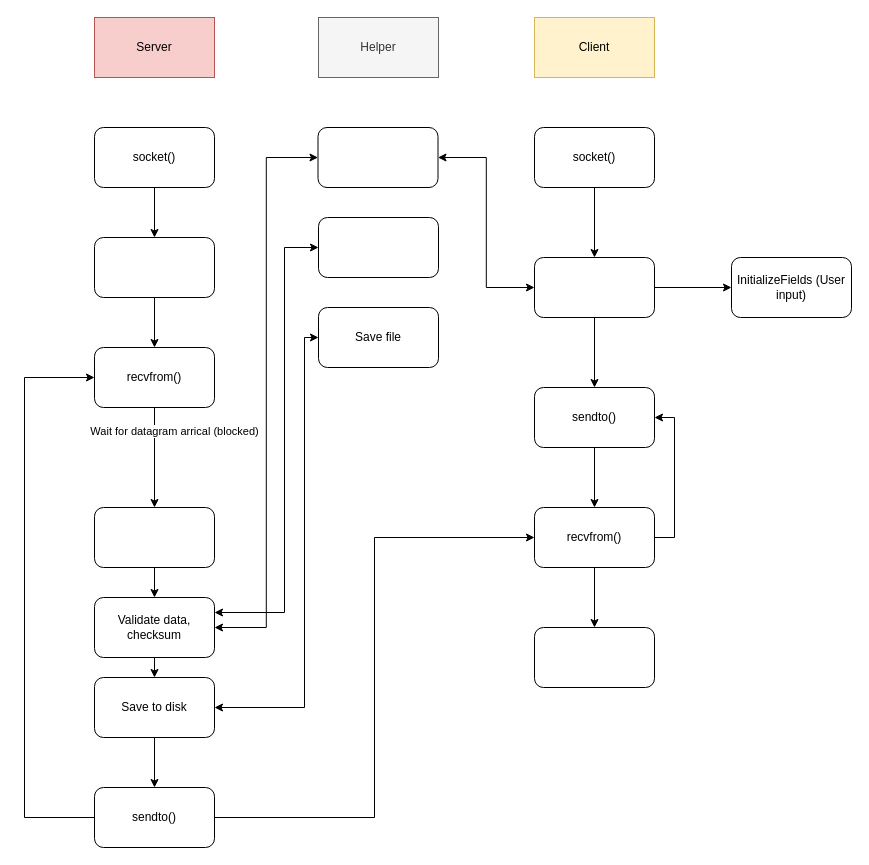
This 869x865 diagram has some shape labels left out. Here are the shapes that lost their labels. From the top down, the box of each, then its label:
(317, 126, 438, 188): CheckSum()
(94, 236, 214, 298): bind()
(318, 216, 438, 278): Data validate functions
(534, 256, 654, 318): Prepare datagram
(94, 506, 214, 568): Unpack data
(534, 626, 654, 688): close()
